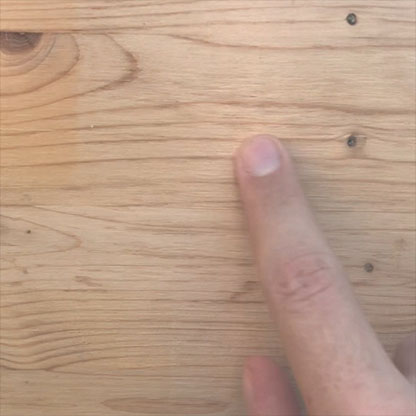fingertip: (217, 126, 303, 192)
